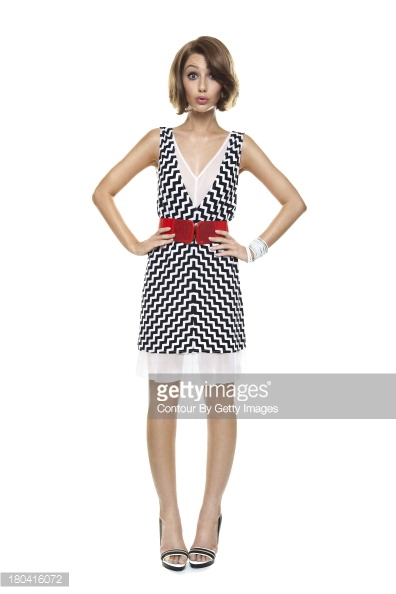em pe: (84, 20, 324, 378)
